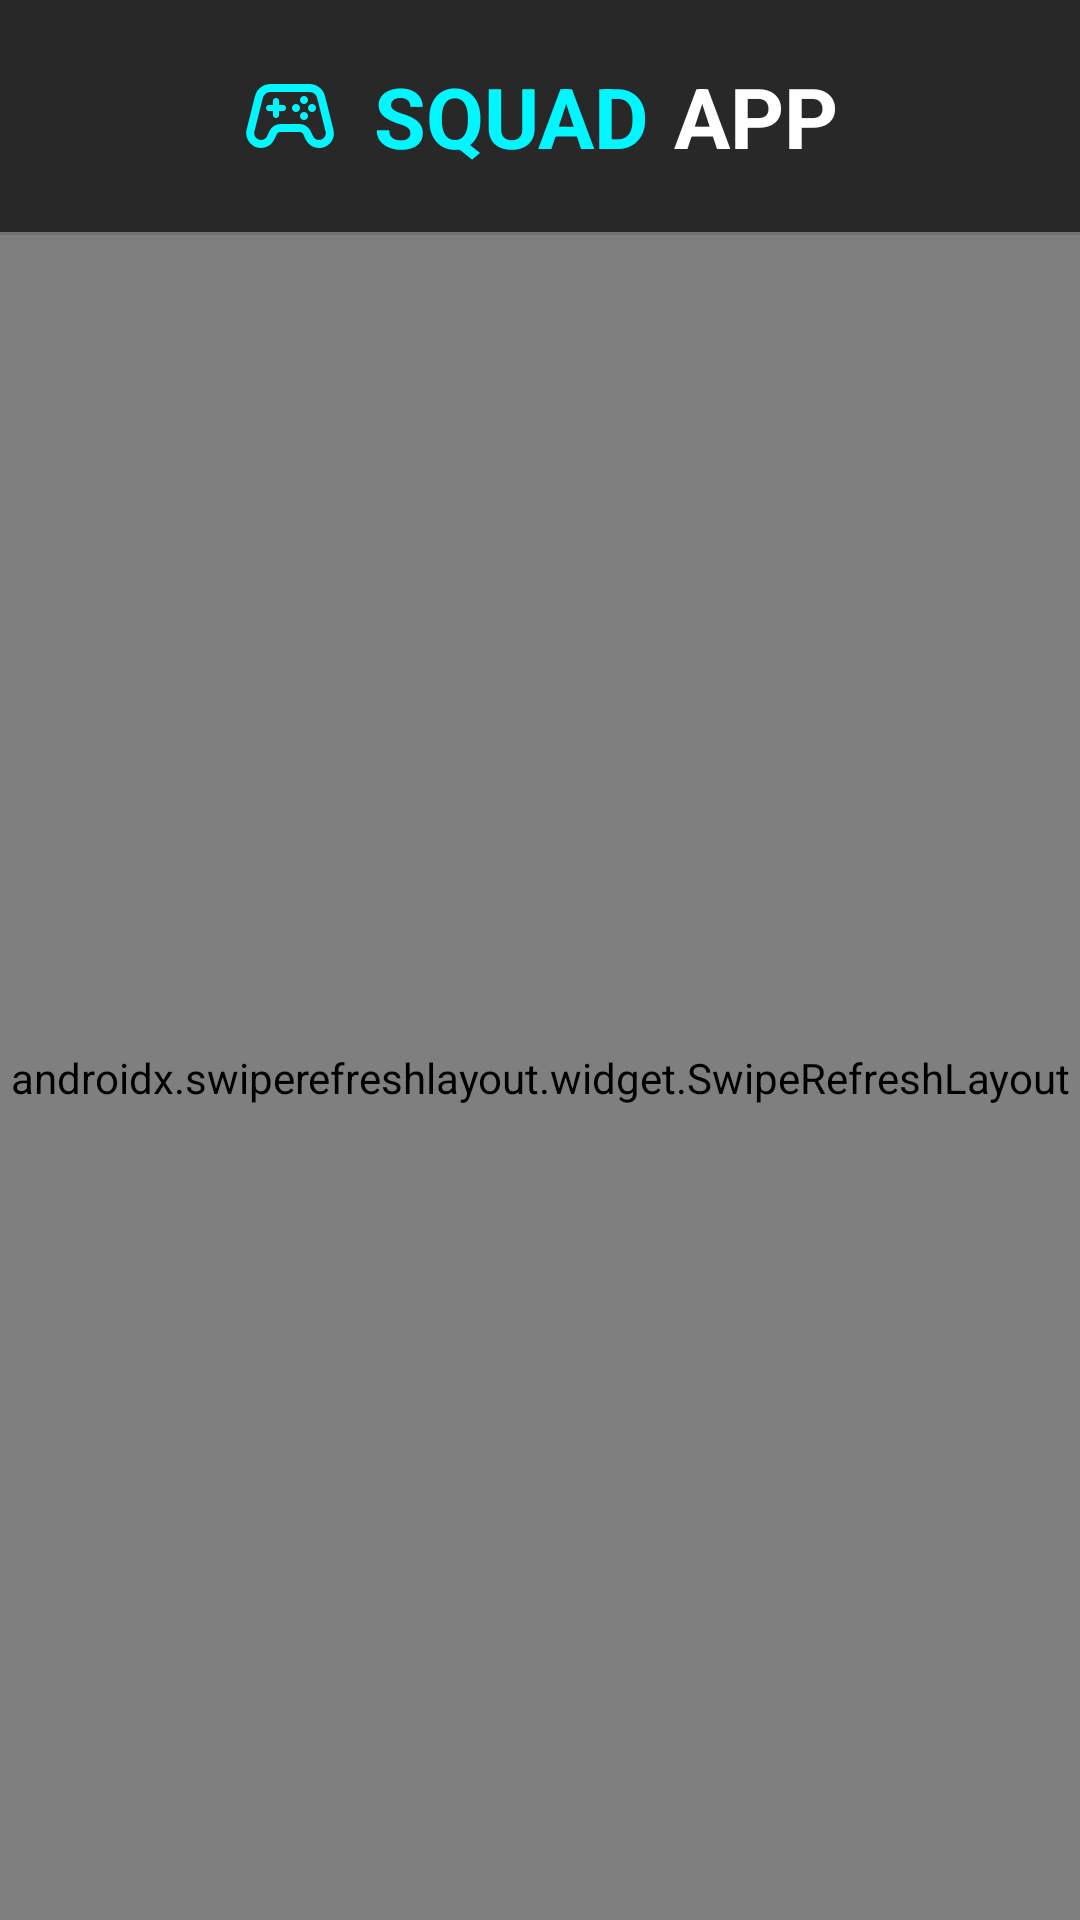

Where to tap for icons on this 1080x1920 app screen, as (x,y):
game controller: (290,116)
